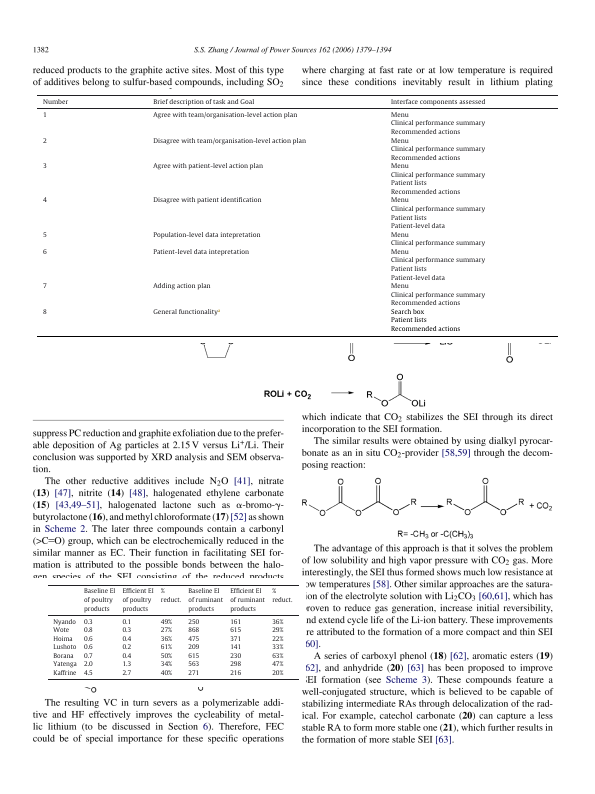borderless: (36, 94, 558, 336), (47, 583, 299, 679)
cell: (389, 163, 485, 197), (389, 197, 485, 231), (389, 249, 485, 283), (389, 137, 485, 163), (389, 112, 485, 137), (389, 283, 485, 308), (389, 309, 461, 334), (389, 231, 485, 248), (152, 137, 306, 146), (152, 112, 298, 120), (152, 197, 262, 206), (152, 231, 261, 240), (152, 98, 255, 107), (187, 588, 224, 613), (229, 588, 266, 613), (152, 163, 263, 171), (389, 98, 486, 107), (83, 588, 116, 613), (122, 588, 155, 613), (152, 249, 249, 257), (152, 308, 221, 317), (152, 283, 211, 291), (271, 588, 294, 604), (160, 588, 182, 604), (41, 98, 69, 107), (52, 669, 78, 678), (52, 643, 77, 652), (52, 661, 78, 669), (52, 618, 77, 626), (52, 652, 75, 660), (52, 635, 74, 643), (52, 626, 70, 635), (160, 626, 173, 635), (187, 626, 200, 635), (229, 626, 242, 635), (271, 626, 284, 635), (160, 643, 173, 652), (187, 643, 200, 652), (229, 643, 242, 652), (271, 643, 284, 652), (160, 669, 173, 678), (187, 669, 200, 678), (229, 669, 242, 678), (271, 669, 284, 678), (160, 618, 173, 626), (187, 618, 200, 626), (229, 618, 242, 626), (271, 618, 284, 626), (160, 635, 173, 643), (187, 635, 200, 643), (229, 635, 242, 643), (271, 635, 284, 643), (160, 652, 173, 660), (187, 652, 200, 660), (229, 652, 242, 660), (271, 652, 284, 660), (160, 661, 173, 669), (187, 661, 200, 669), (229, 661, 242, 669), (271, 661, 284, 669), (83, 626, 94, 635), (83, 643, 94, 652), (83, 669, 94, 678), (122, 626, 132, 635), (122, 643, 132, 652), (122, 669, 132, 678), (83, 618, 94, 626), (83, 635, 94, 643), (83, 652, 94, 660), (83, 661, 94, 669), (122, 618, 132, 626), (122, 635, 132, 643), (122, 652, 132, 660), (122, 661, 132, 669), (41, 137, 47, 146), (41, 197, 47, 206), (41, 231, 47, 240), (41, 112, 47, 120), (41, 163, 47, 171), (41, 249, 47, 257), (41, 283, 47, 291), (41, 309, 47, 317)
